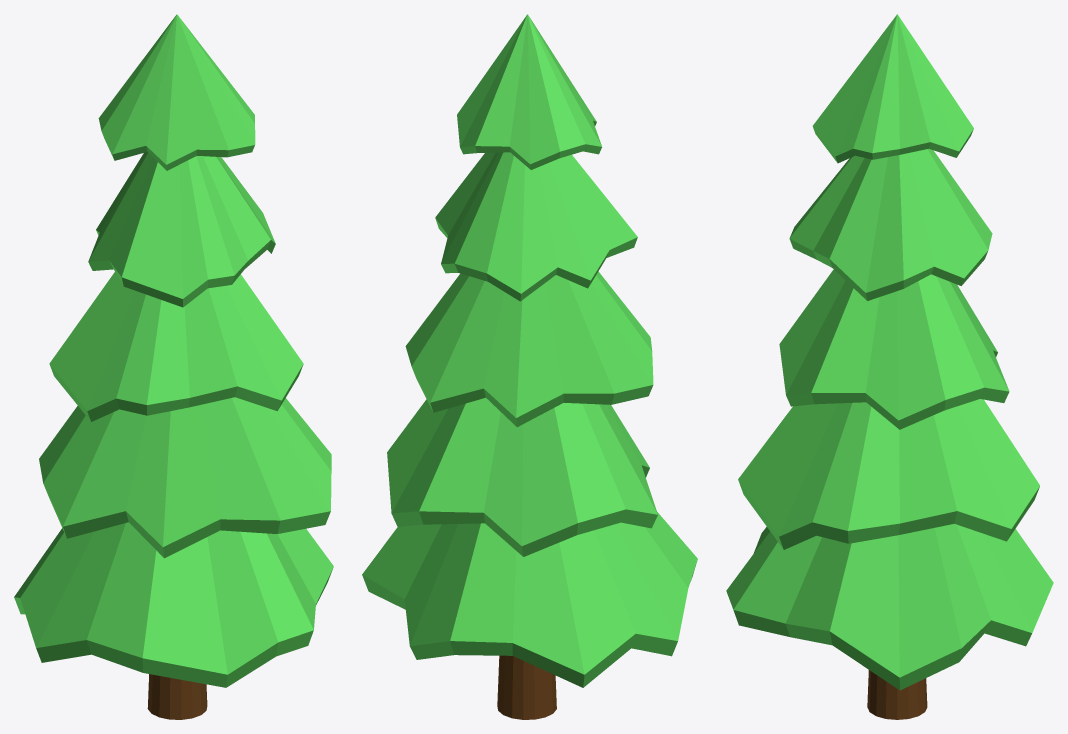
File: Tree 2.fbx
3 renders of one model, left to right at view 1: azimuth 30°, elevation 25°; view 2: azimuth 150°, elevation 25°; view 3: azimuth 270°, elevation 25°, orthographic.
Visible parts, largest first — view 1: Cone.001; view 2: Cone.001; view 3: Cone.001.
Boxes of the visible parts, x1,y1,x2,y2 form: Cone.001: (14, 14, 333, 719); Cone.001: (362, 14, 697, 719); Cone.001: (726, 14, 1053, 719).
Bounding box in the file's own units: 0.8932 × 2.06 × 0.8826.
